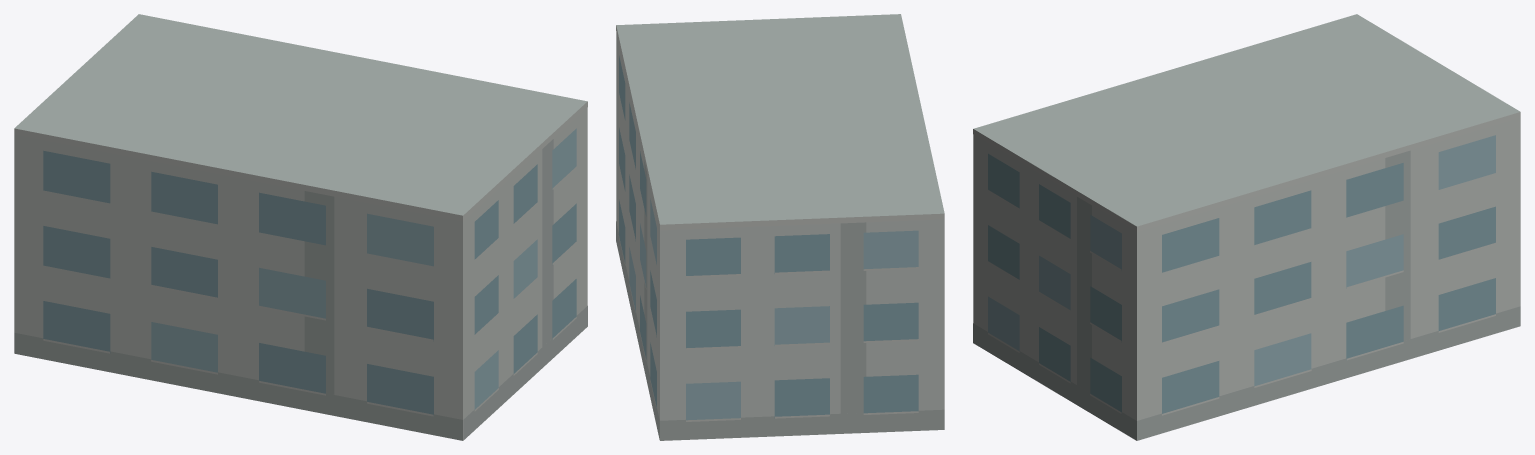
File: residential-7410541b-6156-4043-bfa8-a39ad48aa488.glb
The picture shows the model from 3 angles, left to right: view 1: azimuth 30°, elevation 25°; view 2: azimuth 150°, elevation 25°; view 3: azimuth 270°, elevation 25°; orthographic projection. The views are drawn at different scales.
Parts seen in each view (by area): view 1: residential-7410541b-6156-4043-bfa8-a39ad48aa488.tmp; view 2: residential-7410541b-6156-4043-bfa8-a39ad48aa488.tmp; view 3: residential-7410541b-6156-4043-bfa8-a39ad48aa488.tmp.
Boxes of the visible parts, bbox=[...] form: residential-7410541b-6156-4043-bfa8-a39ad48aa488.tmp: bbox=[14, 14, 587, 440]; residential-7410541b-6156-4043-bfa8-a39ad48aa488.tmp: bbox=[616, 14, 944, 440]; residential-7410541b-6156-4043-bfa8-a39ad48aa488.tmp: bbox=[973, 14, 1520, 440].
Size of the model in its own units: 19.48 by 9.15 by 21.19.
